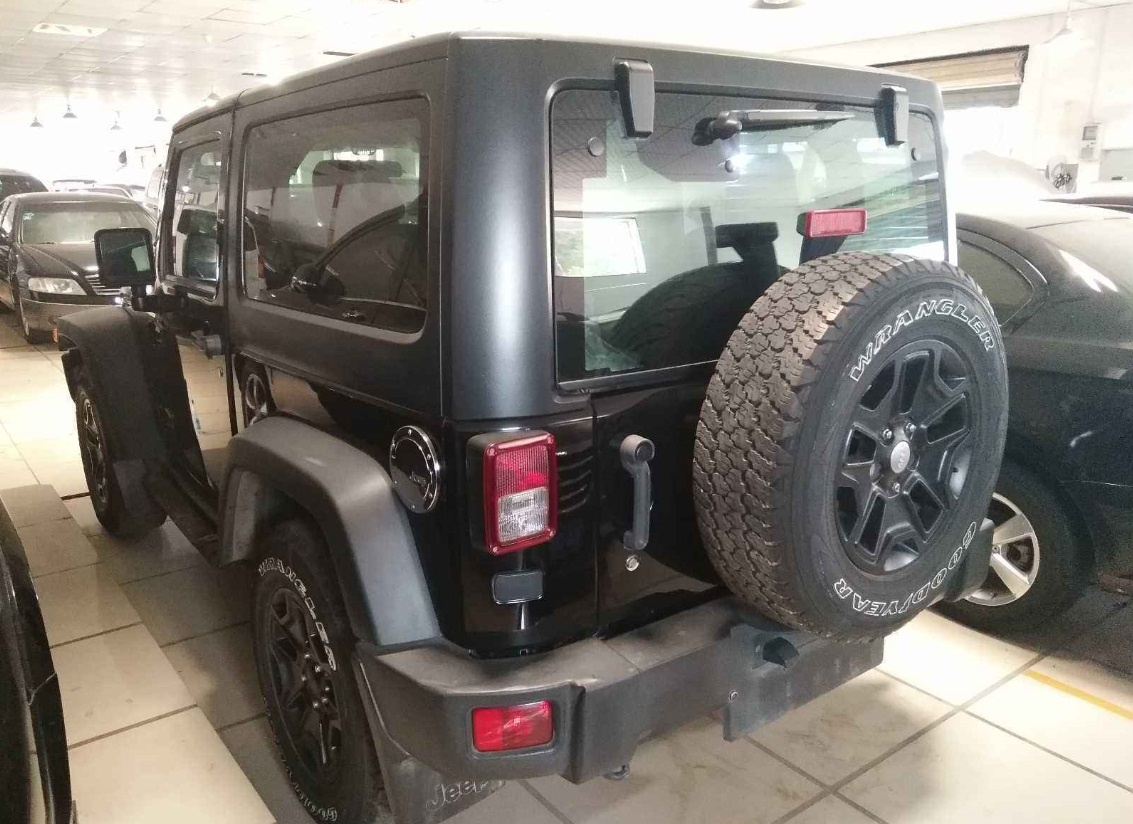jeep: (53, 50, 1027, 819)
